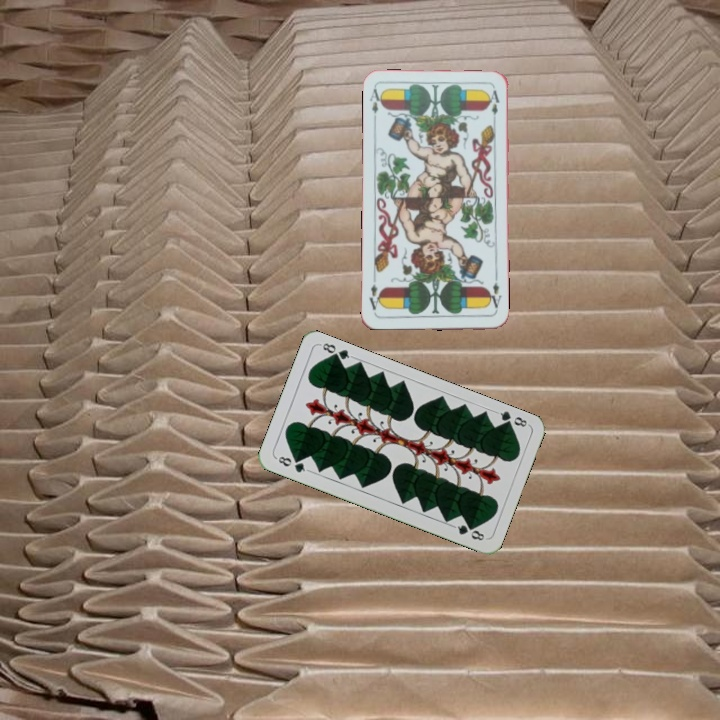EA: (485, 274, 504, 314), (366, 85, 385, 124)
G8: (272, 452, 311, 475), (492, 407, 531, 430)
